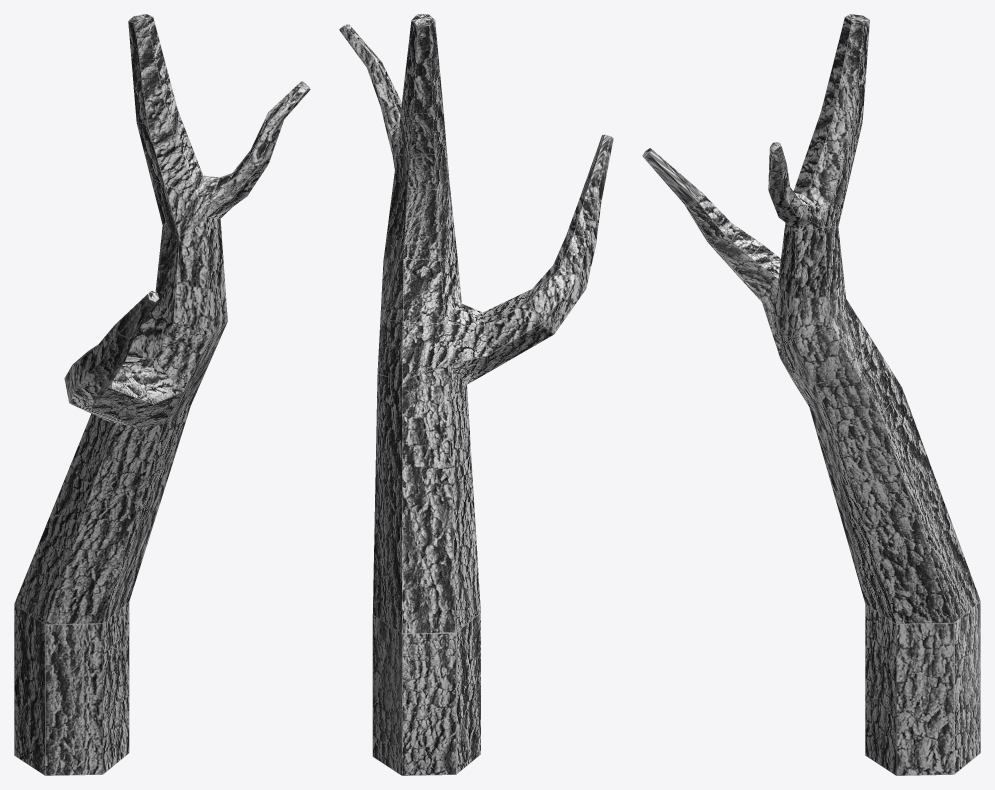
The model's file is DeadTree_2.fbx.
The picture shows the model from 3 angles, left to right: view 1: azimuth 30°, elevation 25°; view 2: azimuth 150°, elevation 25°; view 3: azimuth 270°, elevation 25°; orthographic projection. The views are drawn at different scales.
Visible parts, largest first — view 1: Dead_Tree_1; view 2: Dead_Tree_1; view 3: Dead_Tree_1.
Boxes of the visible parts, x1,y1,x2,y2 form: Dead_Tree_1: (14,14,310,775); Dead_Tree_1: (339,14,613,775); Dead_Tree_1: (642,14,980,775).
Size of the model in its own units: 19.17 by 55.73 by 22.63.
1 material, 1 textured.
